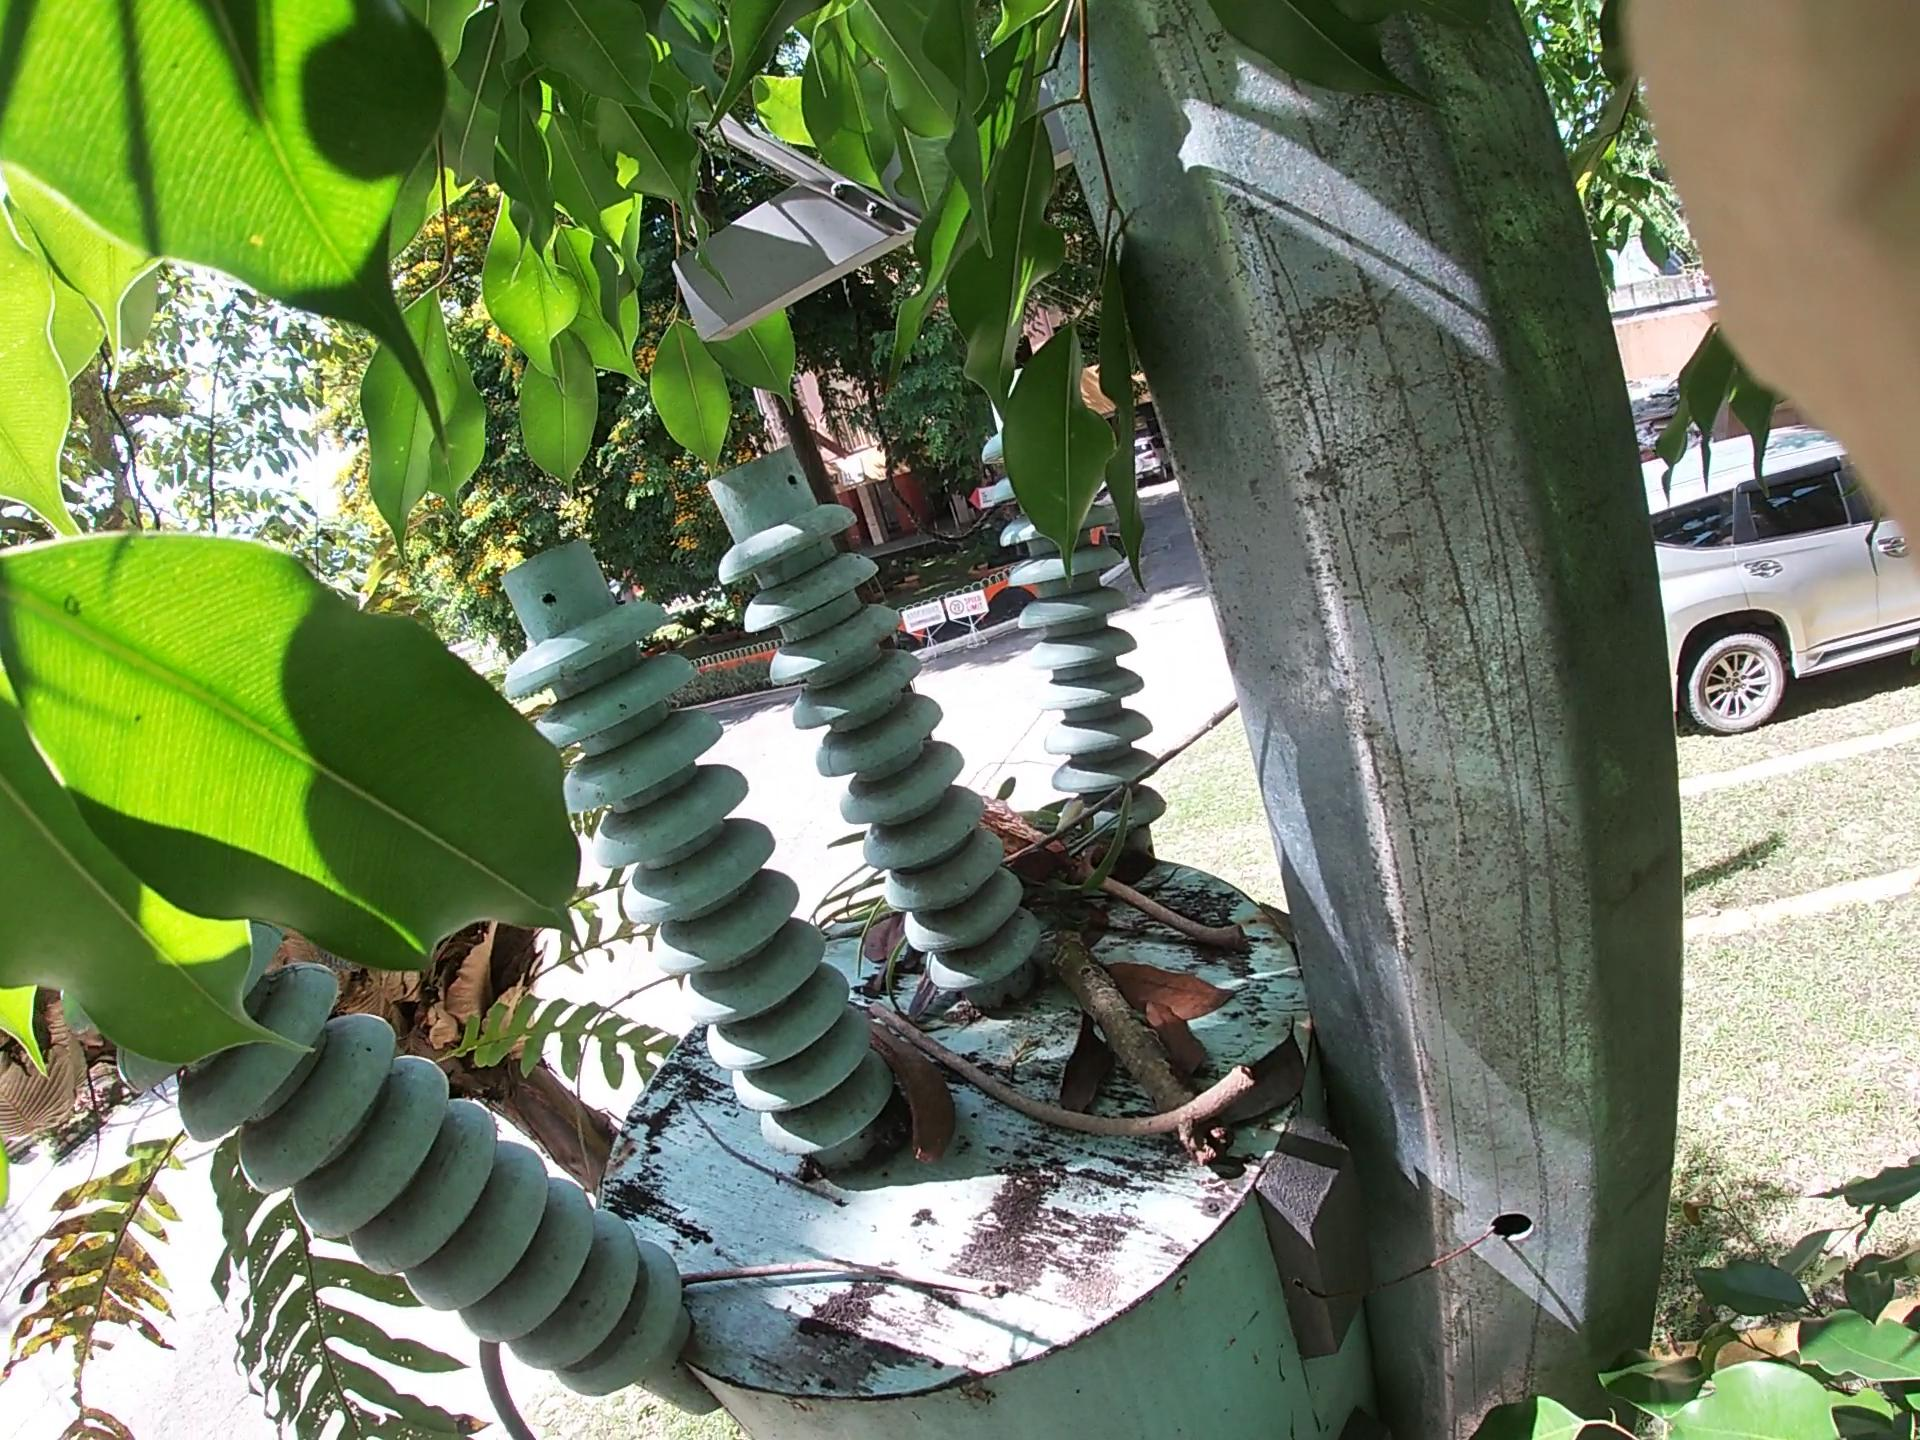leaf: (1101, 948, 1241, 1133)
tree branch: (977, 882, 1485, 1266), (358, 1141, 1042, 1414), (928, 641, 1246, 923), (868, 1019, 1252, 1137)
